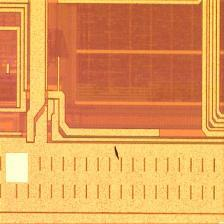PARTICLE: (113, 143, 124, 163)
